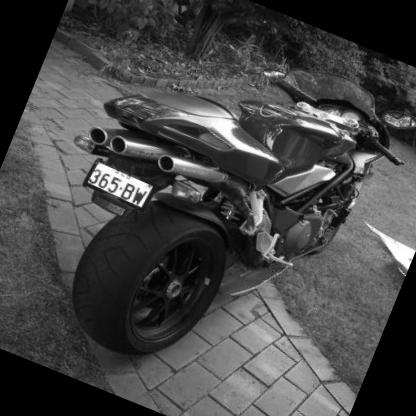moto: (11, 1, 416, 416)
